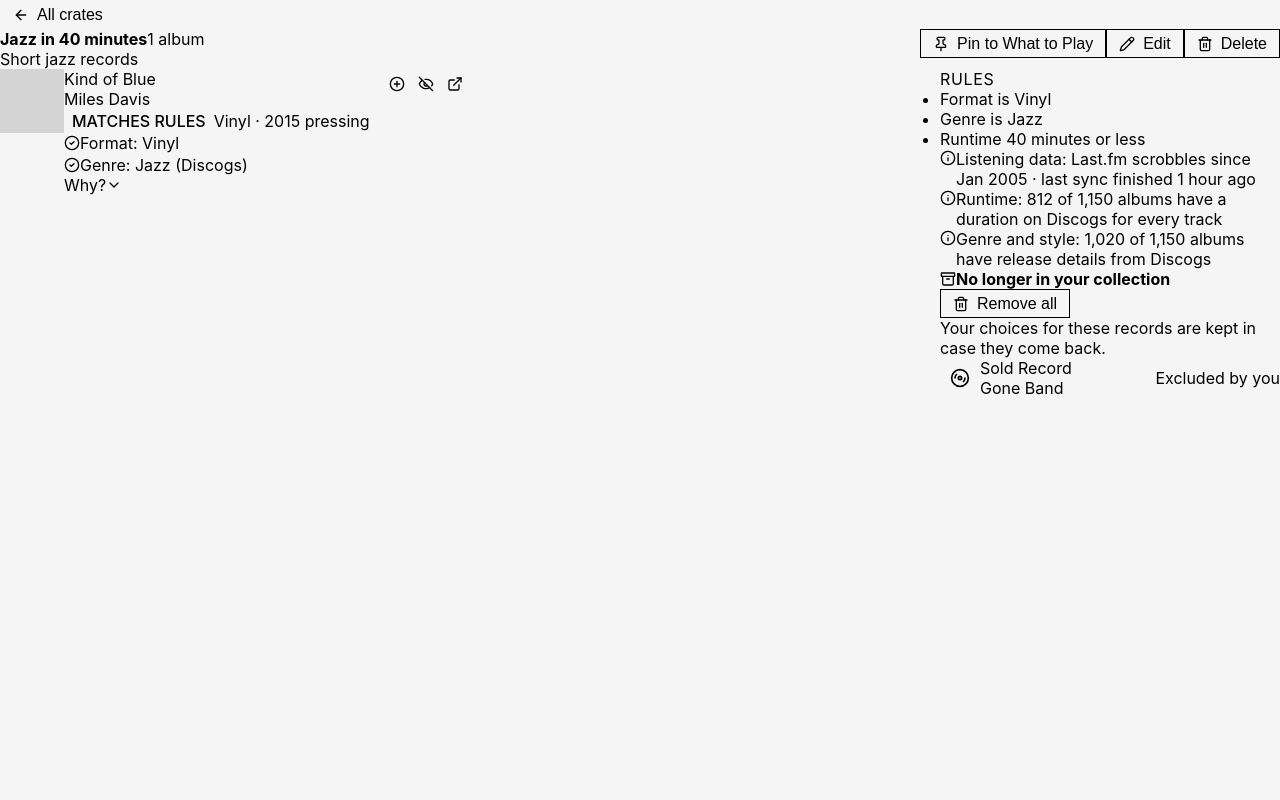
Scenario: CratesPage › detail › keeps stale overrides when the removal is cancelled
Click the button "Remove all" at (1005, 304), box [940,289,1070,318]
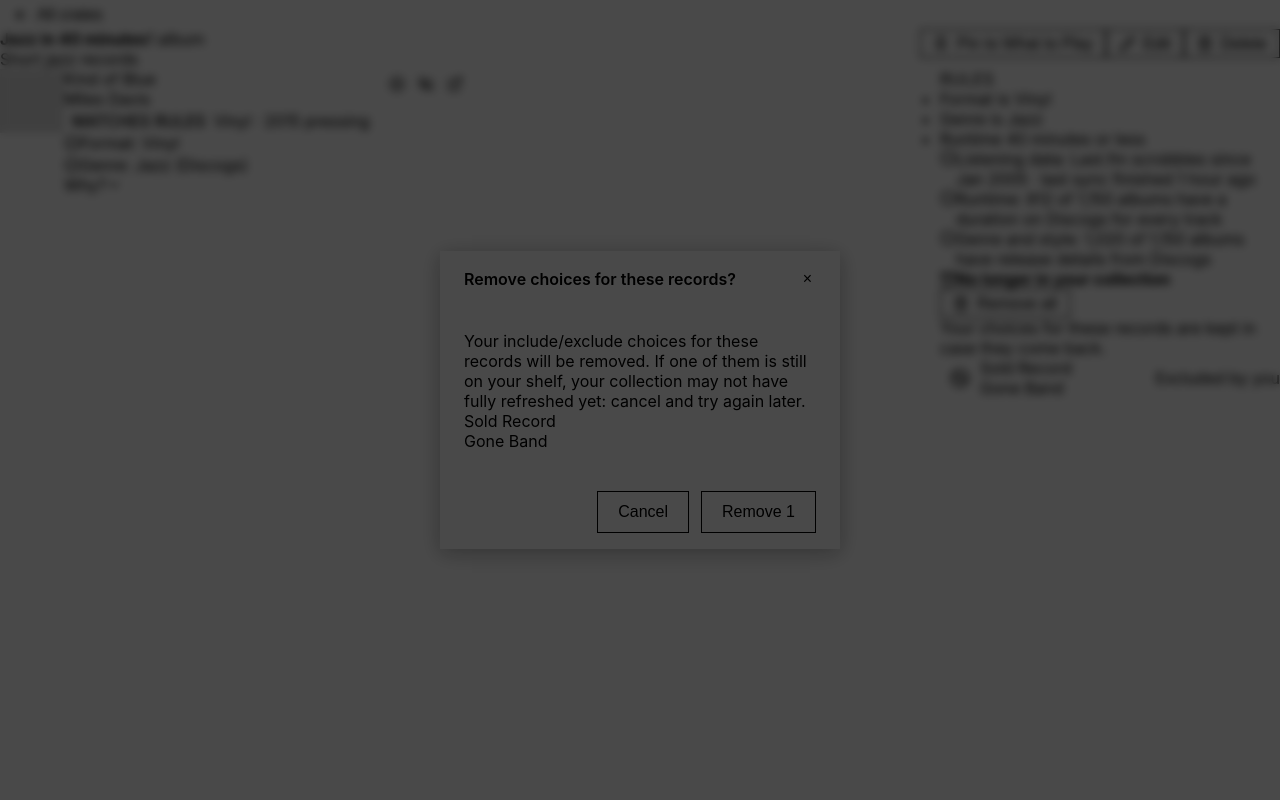
Click the button "Cancel" at (643, 512), box [597,491,689,533]
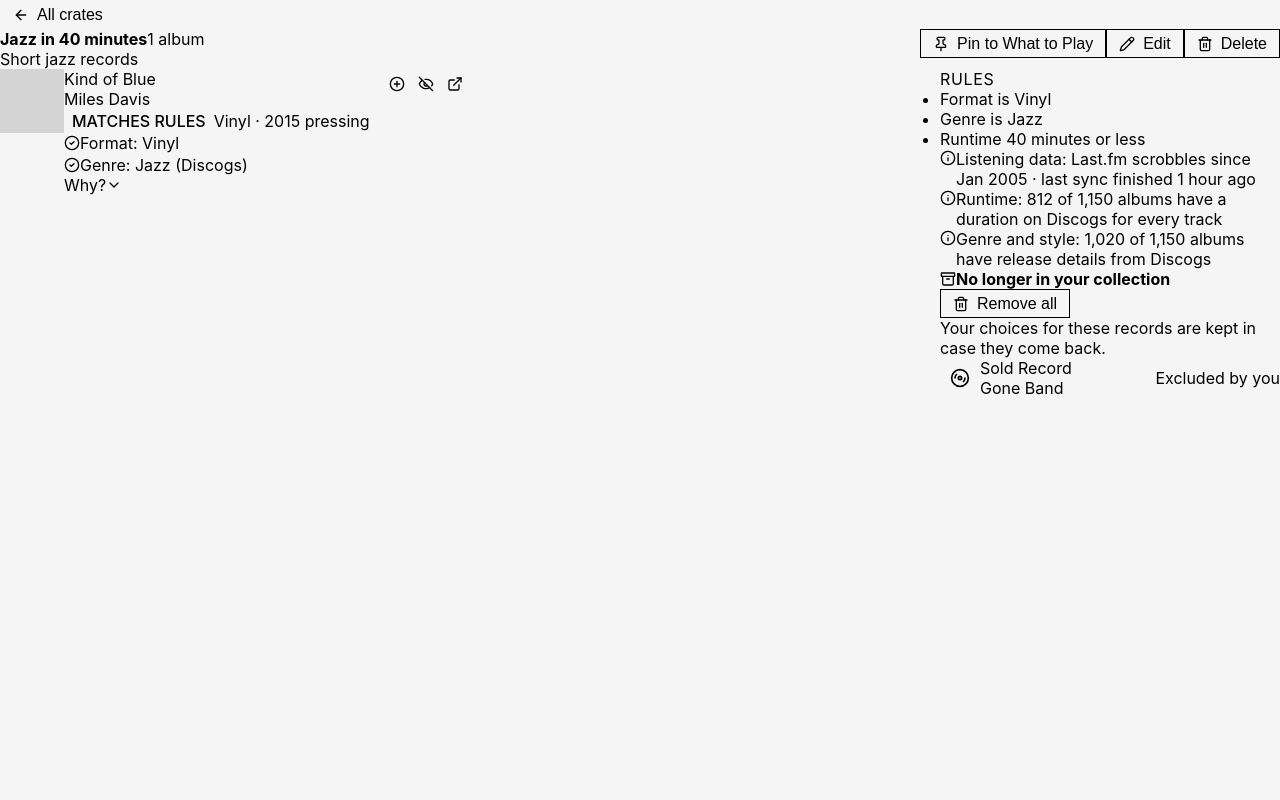
Now the dialog is gone
